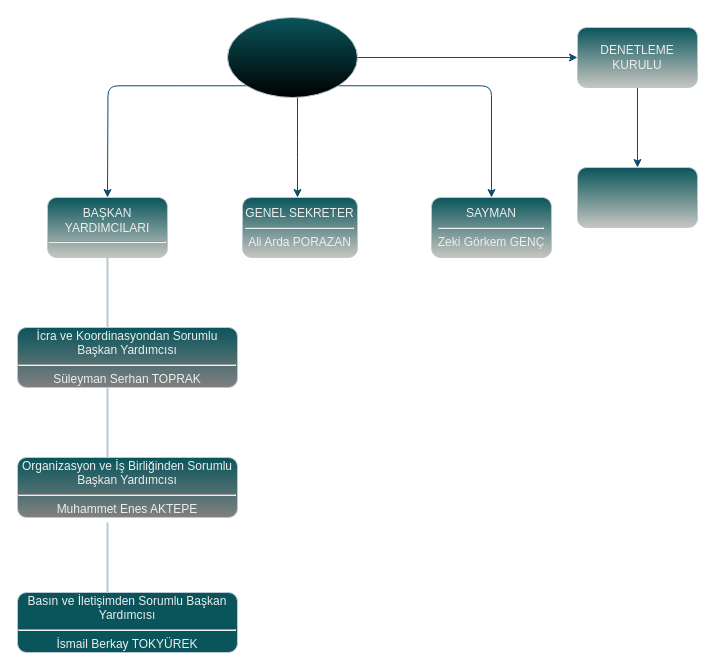
Image size: 715x670. Some labels were removed from this diagram. The shapes that lost their labels are listed below. From the top down, each one's box as (x1, y1, x2, y2) in pixels, then its label:
(226, 16, 358, 98): BAŞKAN Mehmet Fatih GÜLEÇ
(576, 166, 698, 228): DİSİPLİN KURULU
